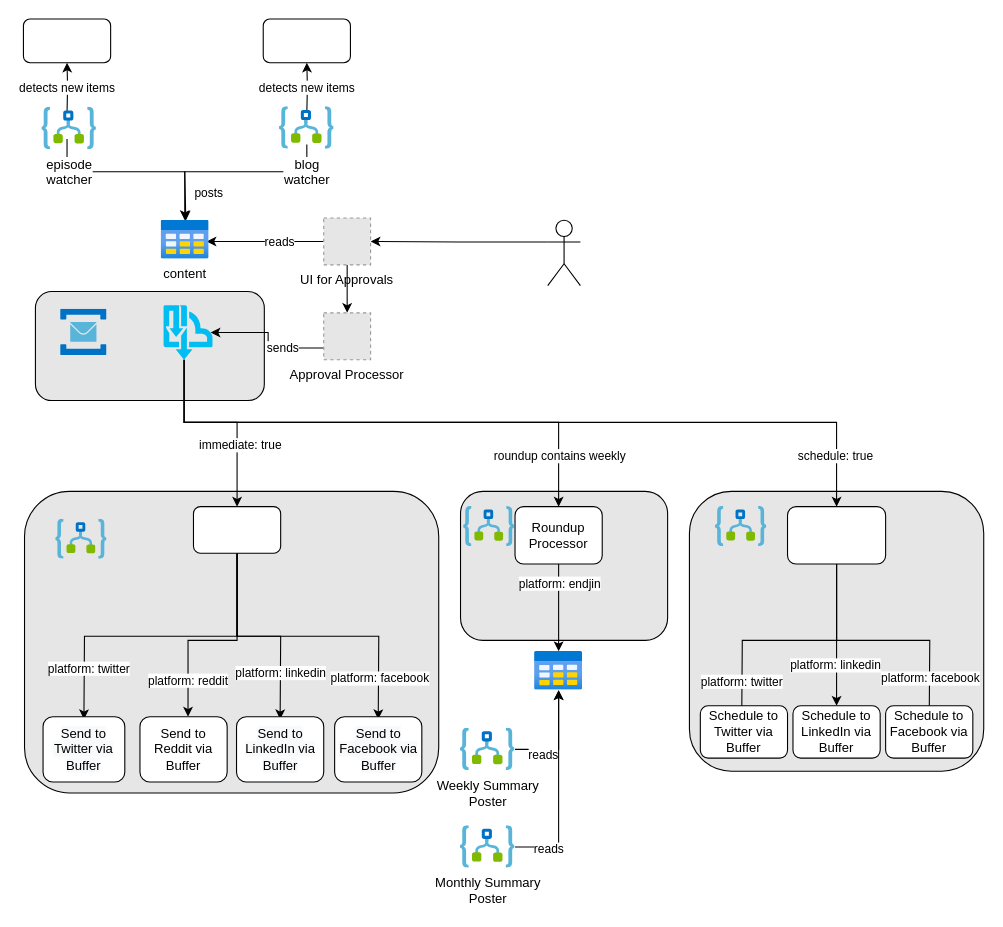
The diagram is 1003 pixels wide and 927 high, and some of its shapes have lost their labels. Grey dashed boxes stand in for pictures. The centre of each missing label's shape, as x and y in pixels:
"Actions" goes at pixel 187 332.
"Actor" goes at pixel 563 252.
"CloudWithChris" goes at pixel 83 332.
"CWC Blog" goes at pixel 306 40.
"CWC Episodes" goes at pixel 66 40.
"Immediate Processor" goes at pixel 236 529.
"roundup" goes at pixel 558 670.
"Schedule Processor" goes at pixel 836 535.
